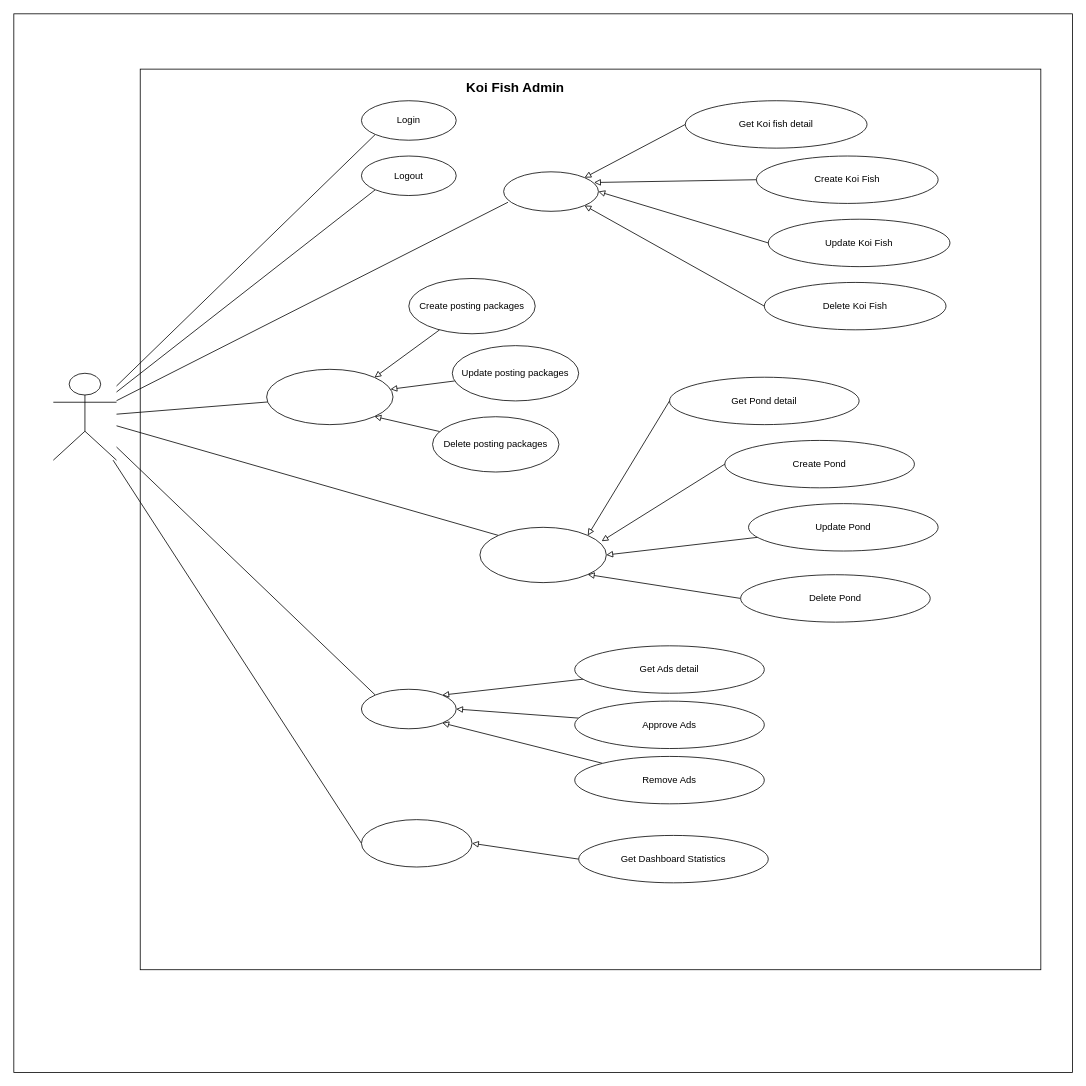
This 1086x1086 diagram has some shape labels left out. Here are the shapes that lost their labels. From the top down, the centre of each, then its label:
[550,191]: Manage Koi Fish
[85,416]: Admin
[329,397]: Manage posting packages
[542,555]: Manage Pond
[408,708]: Manage Ads
[416,843]: Manage Dashboard Statistics
